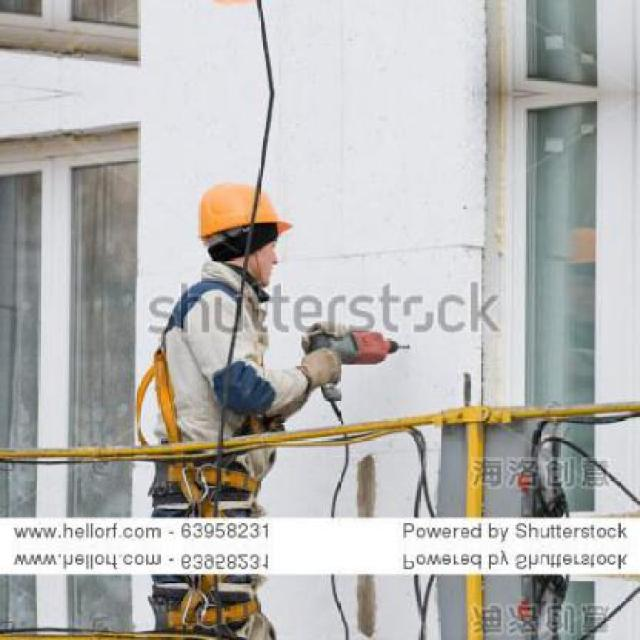helmet: (192, 167, 294, 298)
